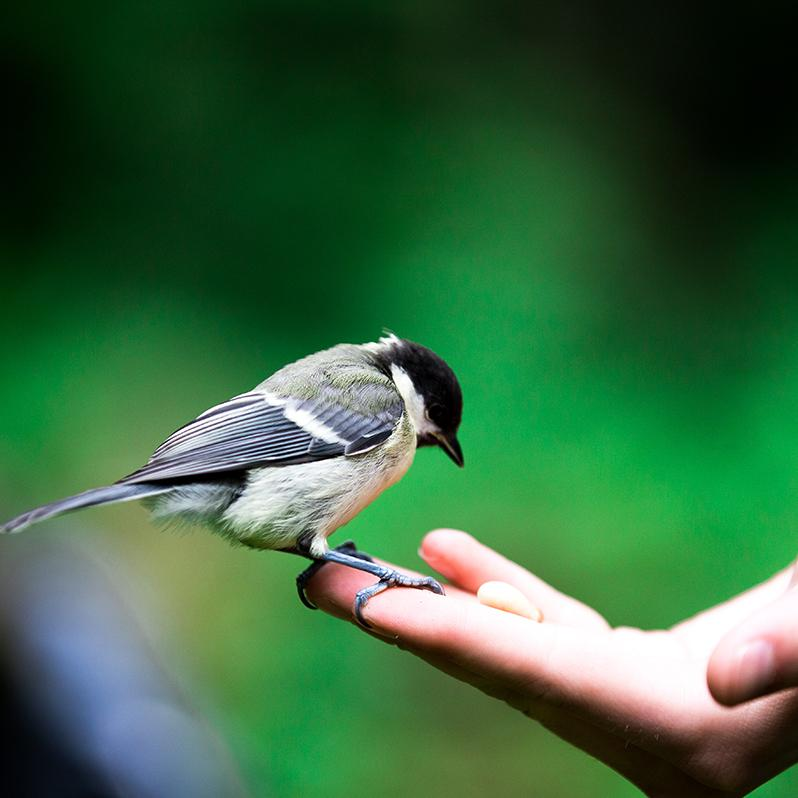bird: (7, 306, 504, 652)
